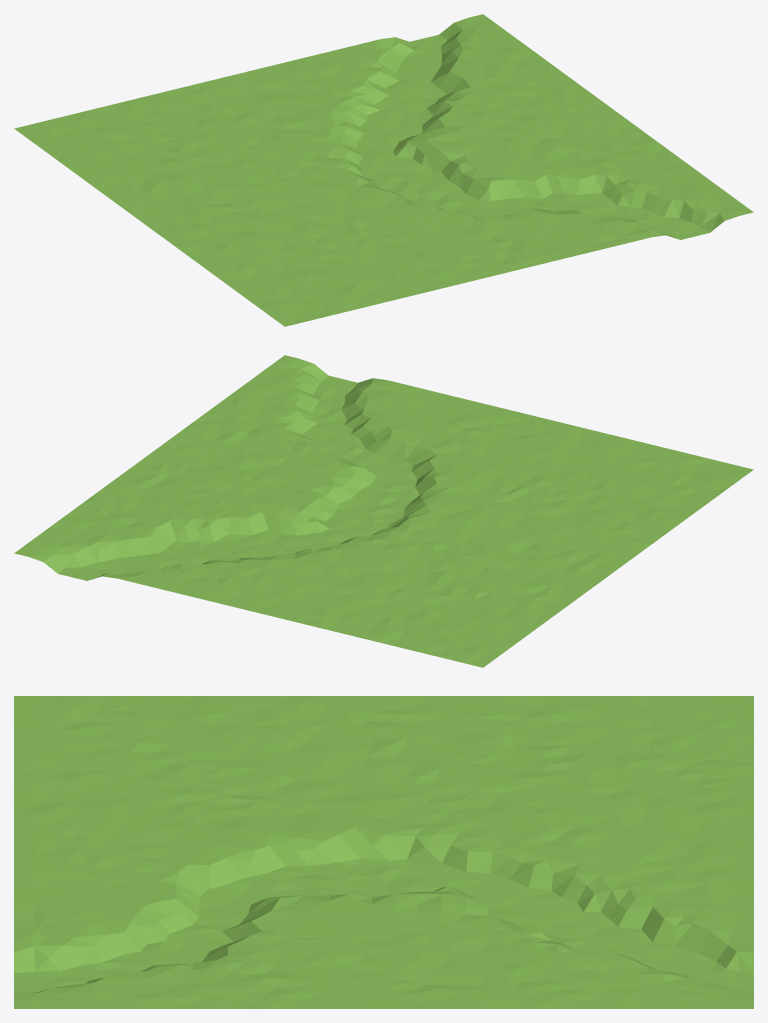
The model's file is MT_River_L_a_03_R_LOD.fbx.
3 views of the same model, one above another, from view 1: azimuth 30°, elevation 25°; view 2: azimuth 150°, elevation 25°; view 3: azimuth 270°, elevation 25° (orthographic). The views are drawn at different scales.
Parts seen in each view (by area): view 1: MT_River_L_a_03_R_LOD0; view 2: MT_River_L_a_03_R_LOD0; view 3: MT_River_L_a_03_R_LOD0.
Boxes of the visible parts, x1,y1,x2,y2 form: MT_River_L_a_03_R_LOD0: (14, 14, 753, 326); MT_River_L_a_03_R_LOD0: (14, 355, 753, 667); MT_River_L_a_03_R_LOD0: (14, 696, 753, 1008).
Size of what is drawn, in the model's own units: 100 by 2.2 by 100.
